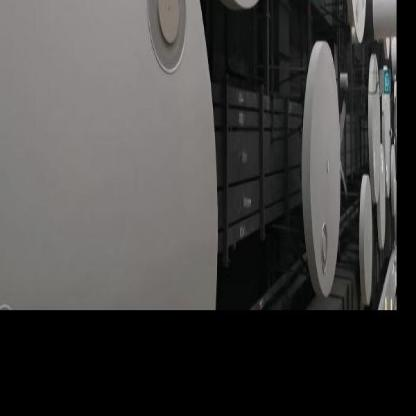light_off: (138, 0, 189, 96)
